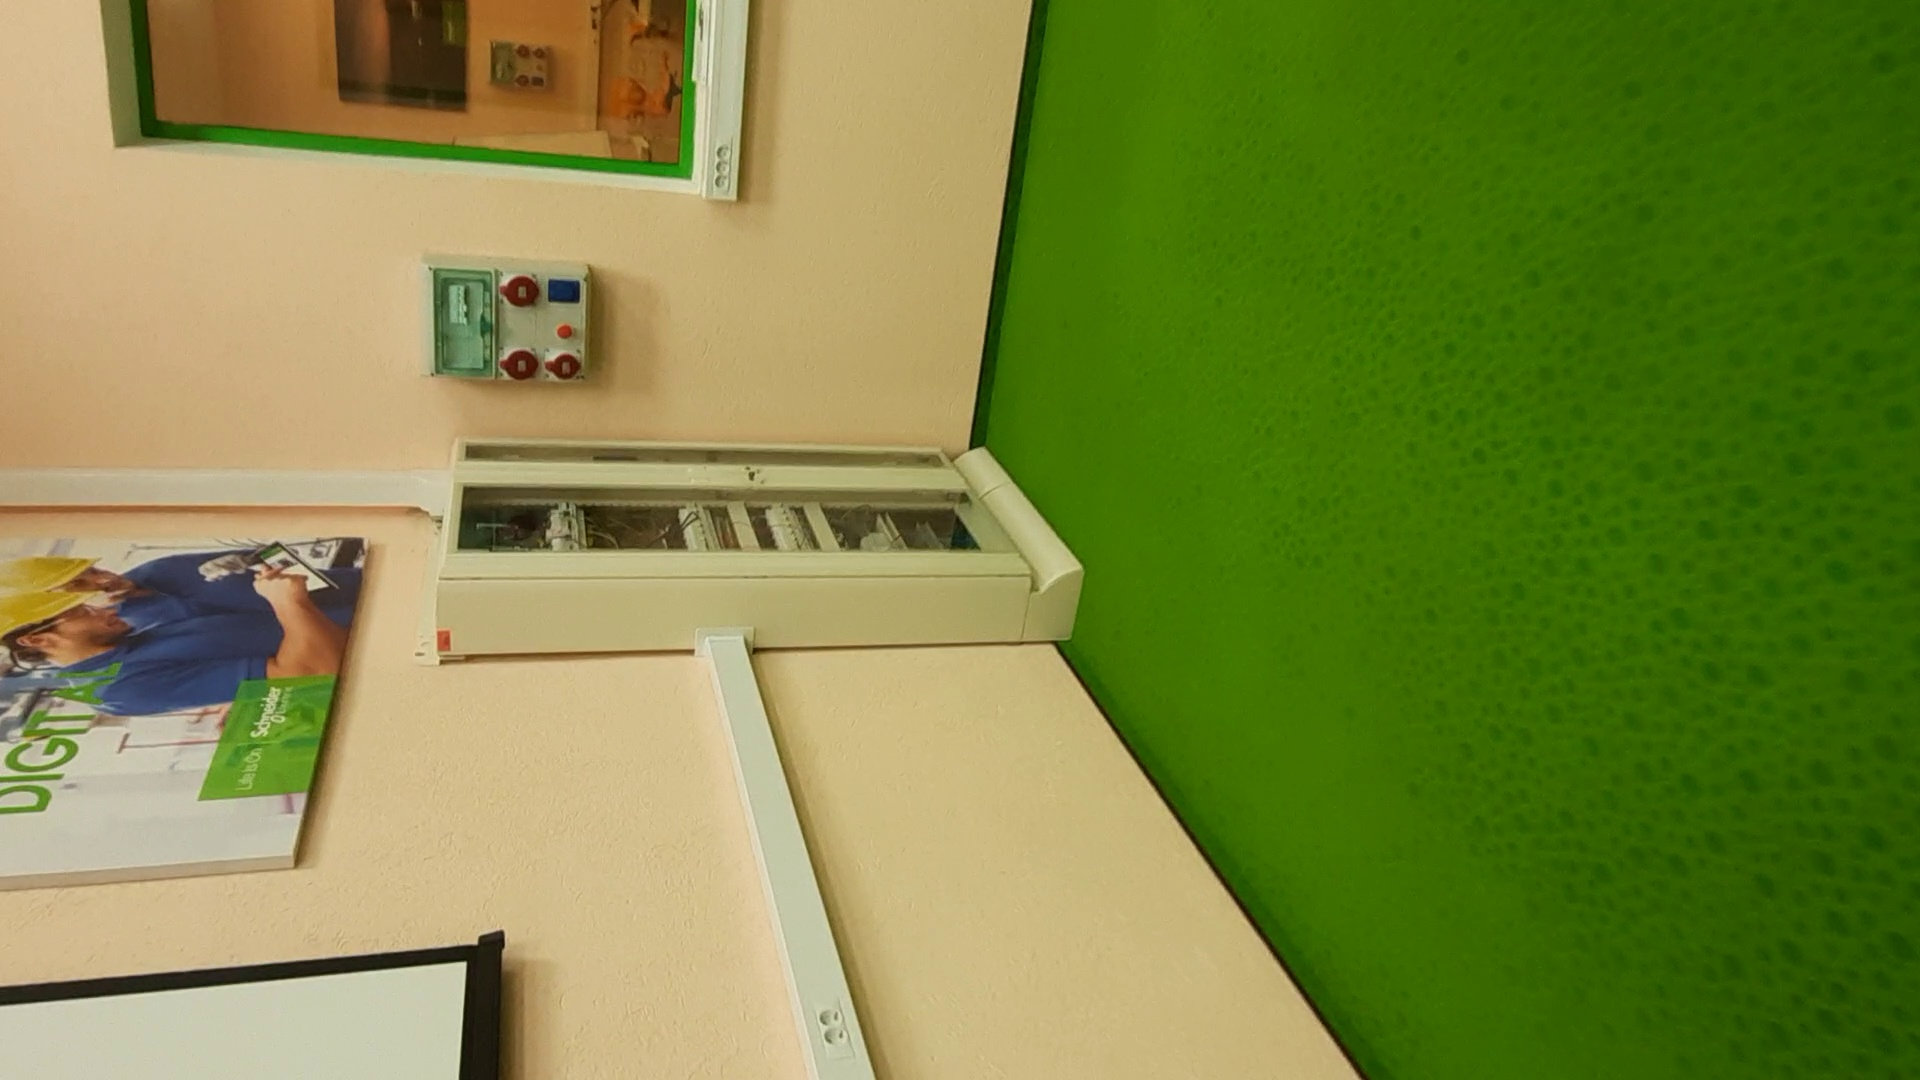stand1: (429, 436, 1092, 659)
